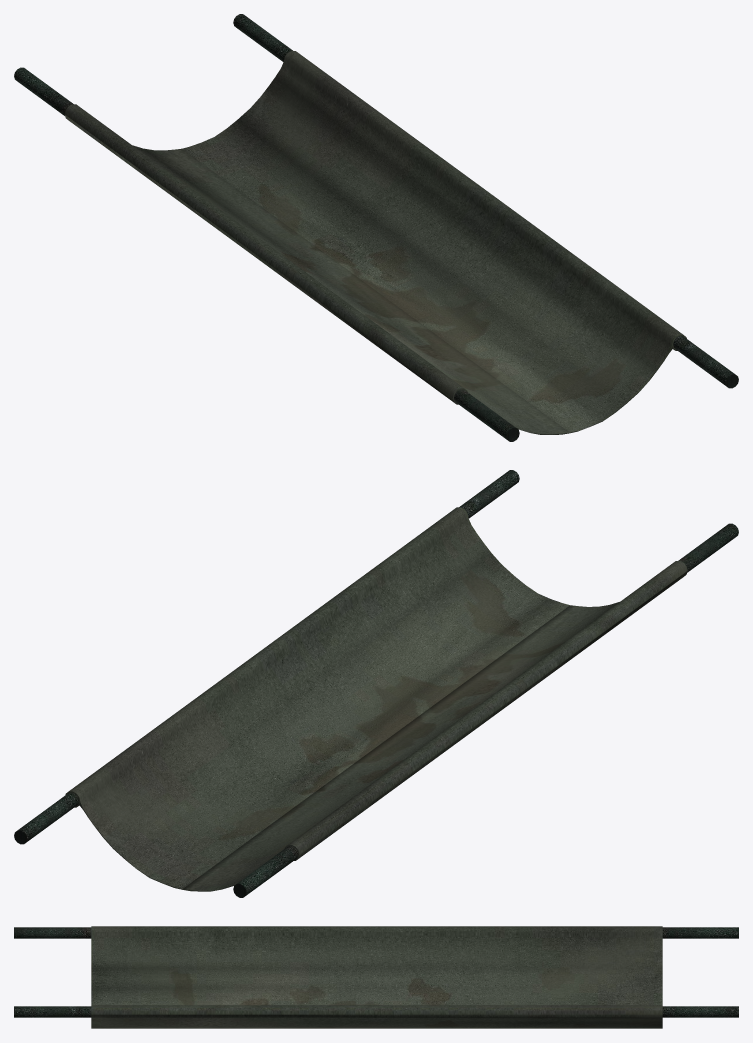
The model's file is SSTT.FBX.
3 views of the same model, one above another, from view 1: azimuth 30°, elevation 25°; view 2: azimuth 150°, elevation 25°; view 3: azimuth 270°, elevation 25° (orthographic). The views are drawn at different scales.
Visible parts, largest first — view 1: obj2; view 2: obj2; view 3: obj2.
Boxes of the visible parts, left/top/right/bottom form: obj2: left=14, top=14, right=738, bottom=441; obj2: left=14, top=470, right=738, bottom=897; obj2: left=14, top=926, right=738, bottom=1028.
Bounding box in the file's own units: 117 × 34.13 × 424.
2 materials, 2 textured.
